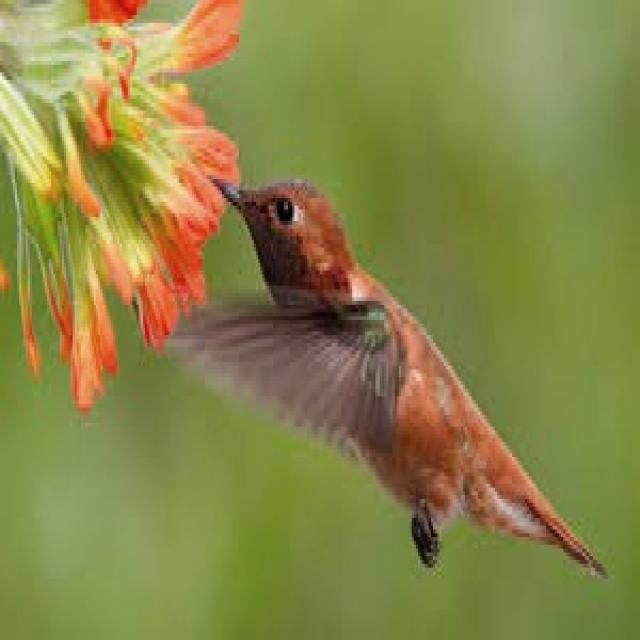hummingbird: (177, 183, 604, 571)
